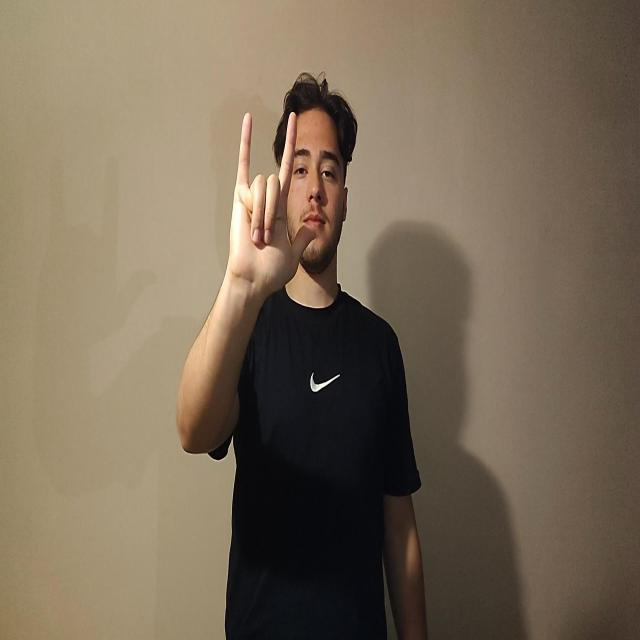iloveyou: (227, 109, 316, 299)
